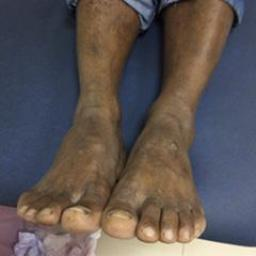Front View -Both Feet-: (10, 56, 218, 248)
